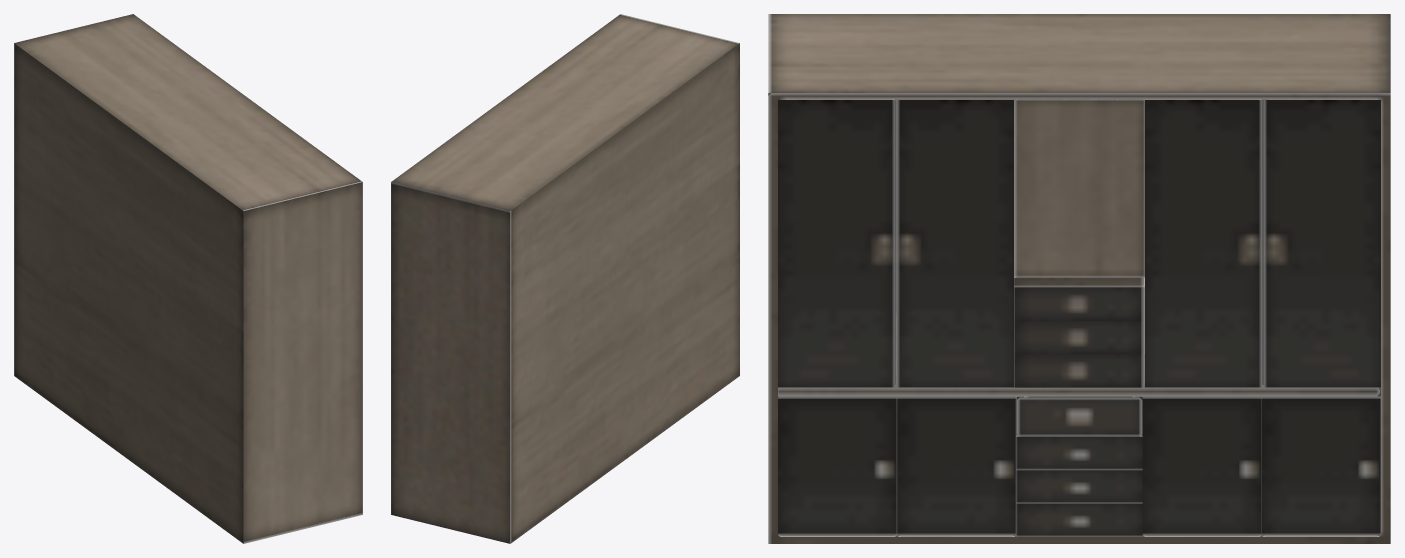
File: large wardrobe.fbx
3 views of the same model, side by side, from view 1: azimuth 30°, elevation 25°; view 2: azimuth 150°, elevation 25°; view 3: azimuth 270°, elevation 25° (orthographic). The views are drawn at different scales.
Visible parts, largest first — view 1: Large Wardrobe; view 2: Large Wardrobe; view 3: Large Wardrobe, Upper Door-2, Upper Door-1, Upper Door-4, Upper Door-3, Bottom Door-2, Bottom Door-1, Bottom Door-4, Bottom Door-3, Bottom Drawr-4, Bottom Drawr-3, Upper Drawr-1 (+4 smaller).
Boxes of the visible parts, x1,y1,x2,y2 form: Large Wardrobe: (14, 14, 362, 543); Large Wardrobe: (391, 14, 739, 543); Large Wardrobe: (768, 14, 1390, 543); Upper Door-2: (1145, 99, 1262, 387); Upper Door-1: (1263, 99, 1380, 387); Upper Door-4: (778, 99, 895, 387); Upper Door-3: (896, 100, 1013, 387); Bottom Door-2: (1142, 396, 1261, 536); Bottom Door-1: (1261, 396, 1380, 536); Bottom Door-4: (778, 396, 897, 536); Bottom Door-3: (897, 396, 1016, 536); Bottom Drawr-4: (1016, 396, 1142, 436); Bottom Drawr-3: (1016, 396, 1142, 470); Upper Drawr-1: (1014, 354, 1144, 387).
Size of the model in its own units: 150 by 400 by 500.
